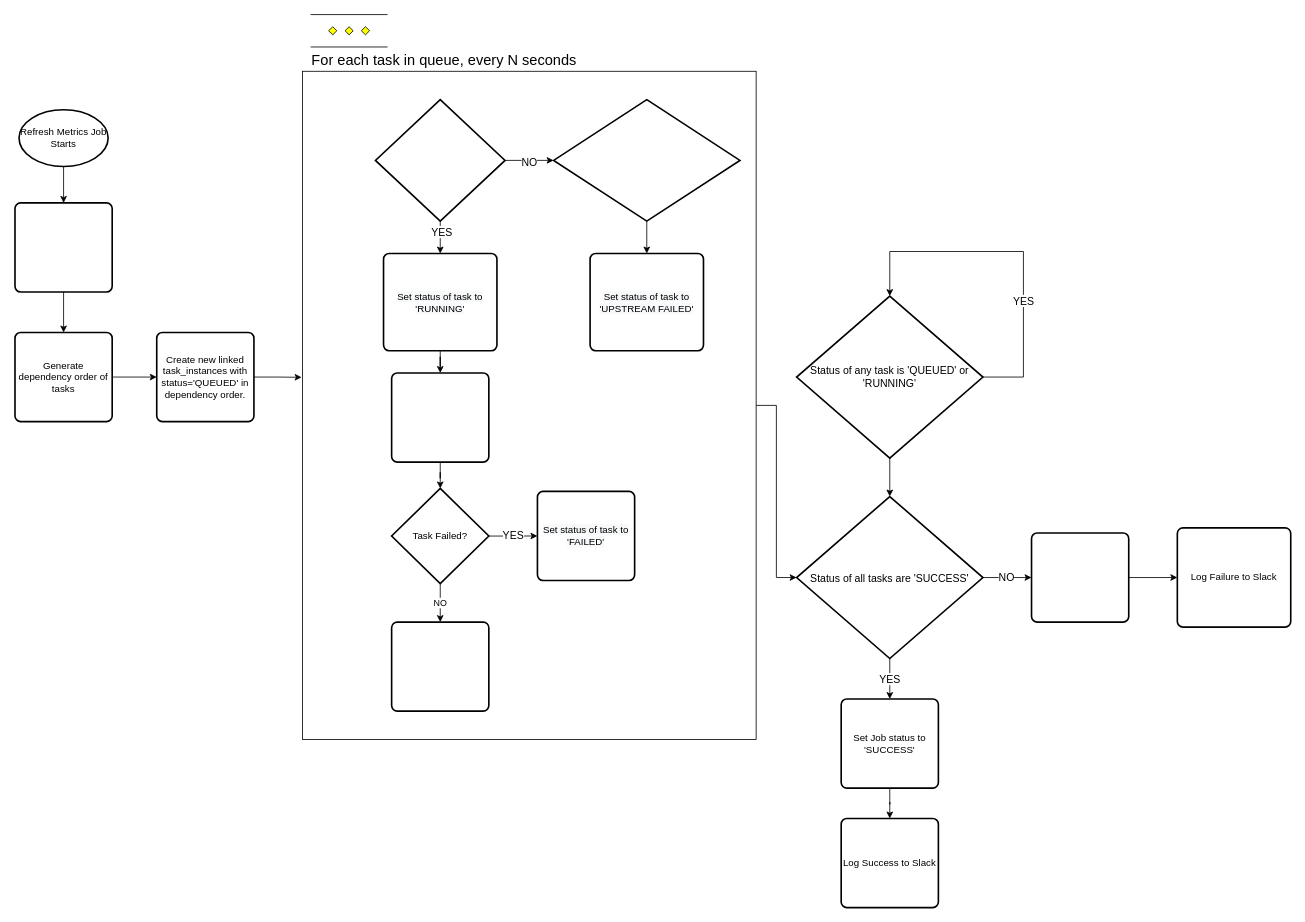
This 1305x922 diagram has some shape labels left out. Each missing label, with the box of its shape:
All direct upstream tasks have status 'SUCCESS': (374, 98, 505, 222)
Any direct upstream task has status 'FAILED' or 'UPSTREAM FAILED': (552, 98, 740, 222)
Create new job_instance with status='RUNNING': (14, 202, 113, 292)
Set Job status to 'FAILURE': (1030, 532, 1129, 622)
Set status of task to 'SUCCESS': (390, 621, 489, 712)
Start task execution: (390, 372, 489, 463)
